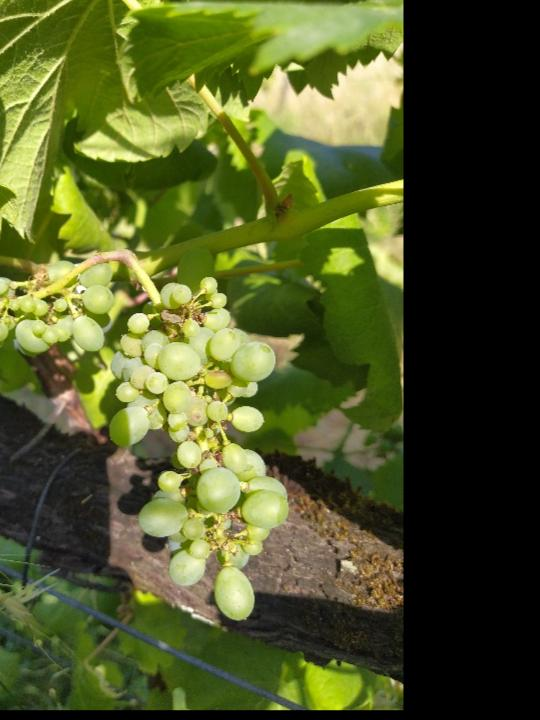grape: (0, 241, 297, 626)
